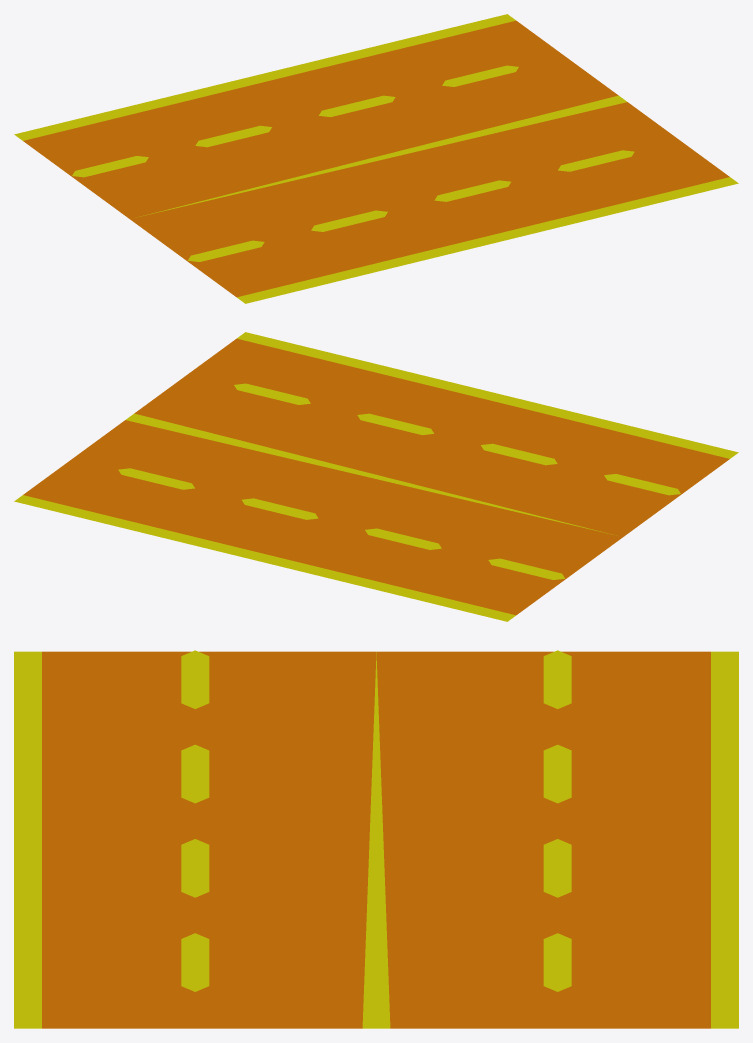
The model's file is Mesh_road_separation.fbx.
3 views of the same model, one above another, from view 1: azimuth 30°, elevation 25°; view 2: azimuth 150°, elevation 25°; view 3: azimuth 270°, elevation 25° (orthographic). The views are drawn at different scales.
Visible parts, largest first — view 1: Mesh_road_separation; view 2: Mesh_road_separation; view 3: Mesh_road_separation.
Part boxes in pixels (left/top/right/bottom): Mesh_road_separation: left=14, top=14, right=738, bottom=303; Mesh_road_separation: left=14, top=332, right=738, bottom=621; Mesh_road_separation: left=14, top=650, right=738, bottom=1028.
Size of what is drawn, in the model's own units: 1600 by 2.5 by 1300.
